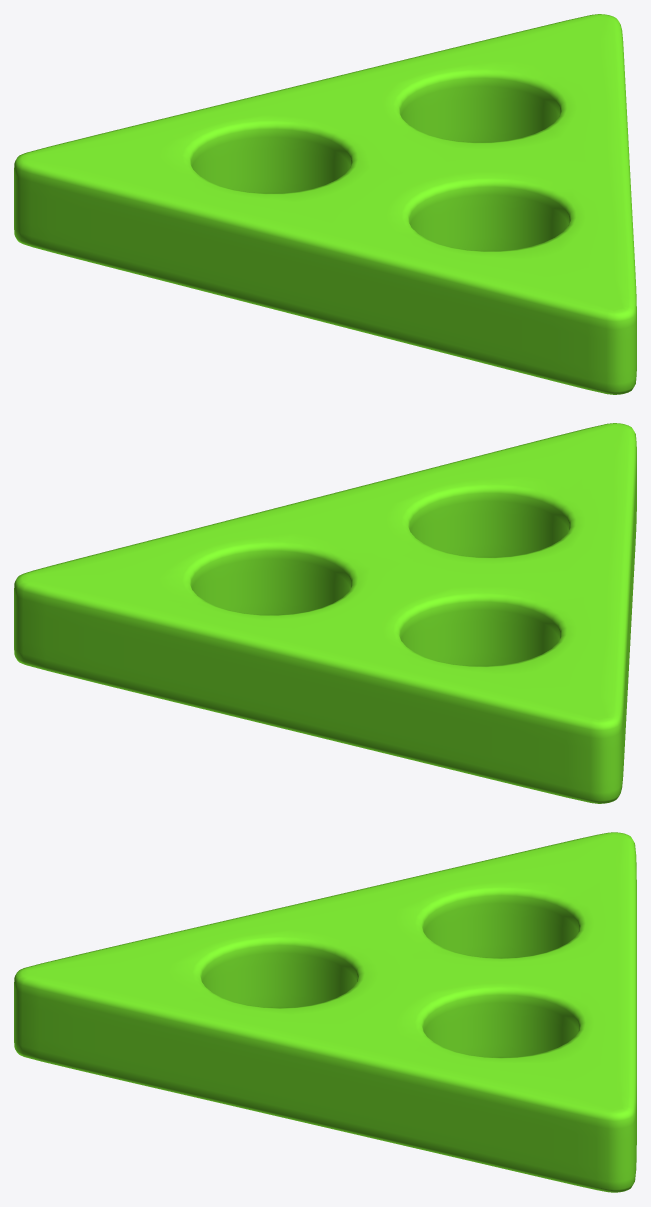
The model's file is toy_triangle.fbx.
3 views of the same model, one above another, from view 1: azimuth 30°, elevation 25°; view 2: azimuth 150°, elevation 25°; view 3: azimuth 270°, elevation 25° (orthographic). The views are drawn at different scales.
Visible parts, largest first — view 1: Triangle.002; view 2: Triangle.002; view 3: Triangle.002.
Part boxes in pixels (<box>): Triangle.002: <box>14,14,636,394</box>; Triangle.002: <box>14,423,636,803</box>; Triangle.002: <box>14,832,636,1192</box>.
Size of the model in its own units: 5.06 by 0.6584 by 4.66.
